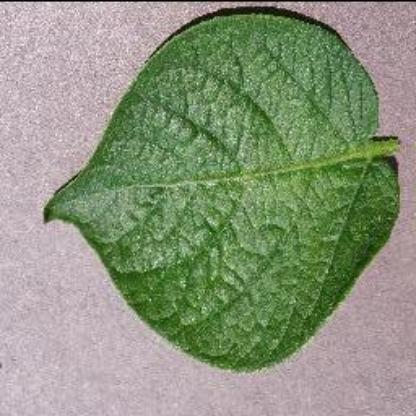Healthy-plant: (55, 13, 385, 382)
